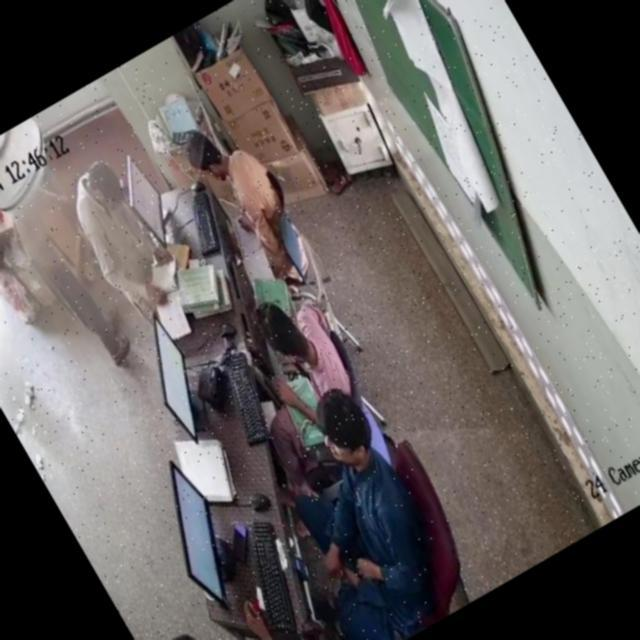person: (239, 376, 468, 640), (2, 200, 130, 386), (56, 156, 186, 322), (177, 108, 304, 264), (228, 272, 352, 416), (240, 578, 361, 640), (162, 611, 285, 640)
